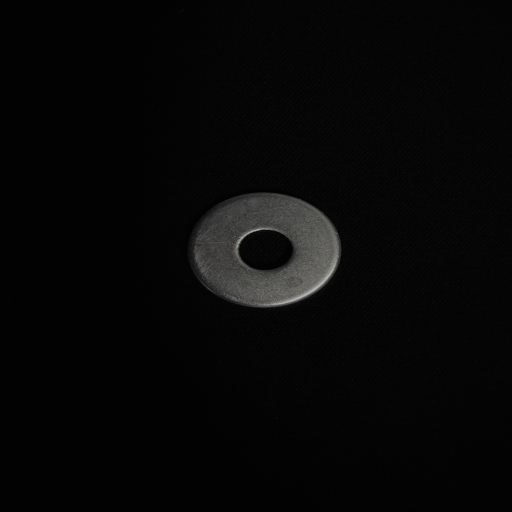Product: (188, 193, 341, 308)
Scratch: (186, 221, 221, 279), (231, 236, 254, 271)
